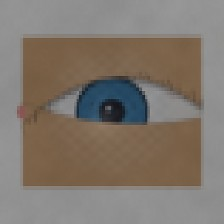pinguecula_lesion: (25, 95, 53, 118)
